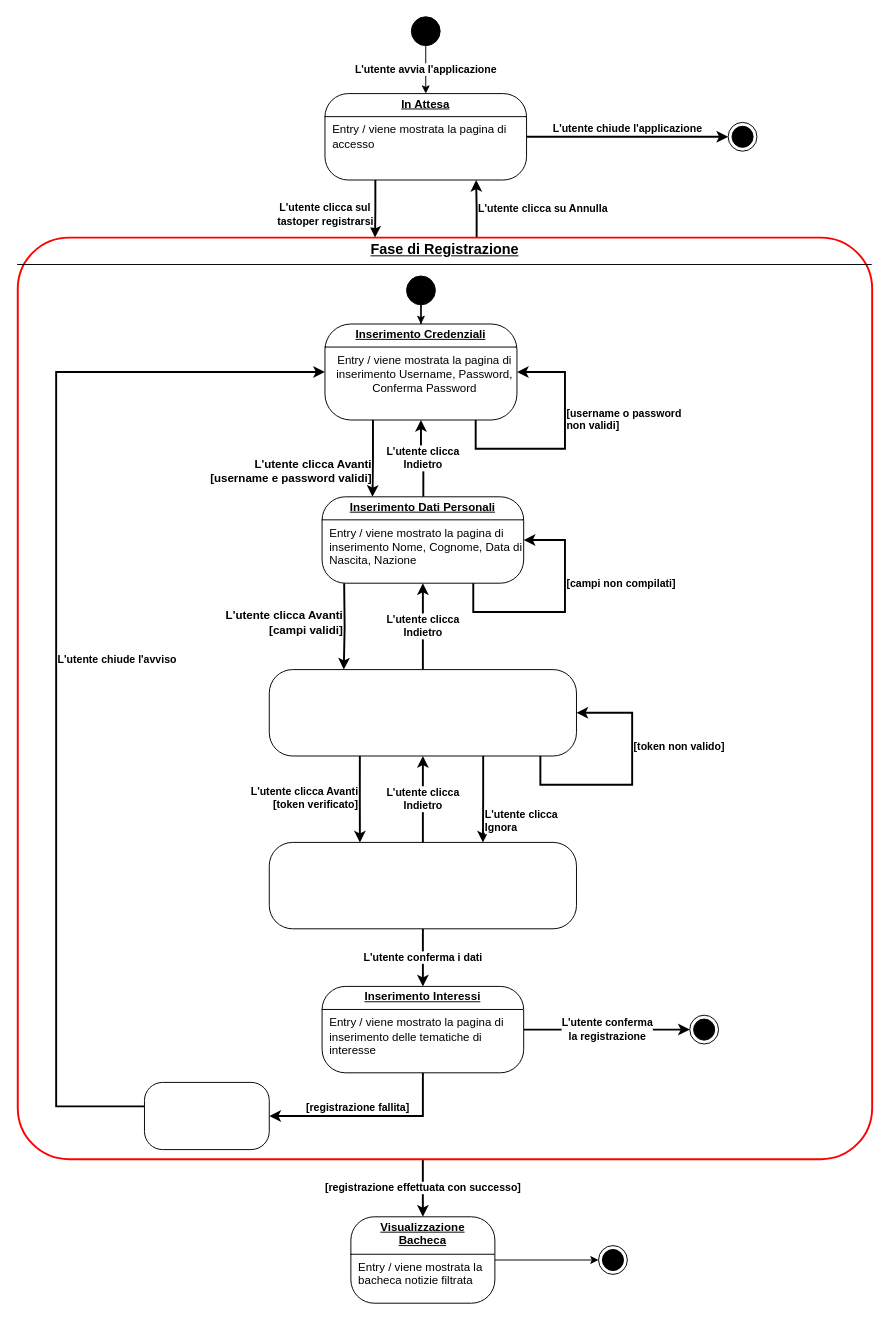
Image size: 889x1320. Some labels were removed from this diagram. Each missing label, with the centre of its shape:
Errore Viene mostrato l'avviso: the point at 206,1115
Inserimento Token Entry / viene mostrato la pagina di inserimento Token: the point at 422,712
Riepilogo Dati Entry / viene mostrato la pagina di riepilogo dei dati inseriti: the point at 422,885
